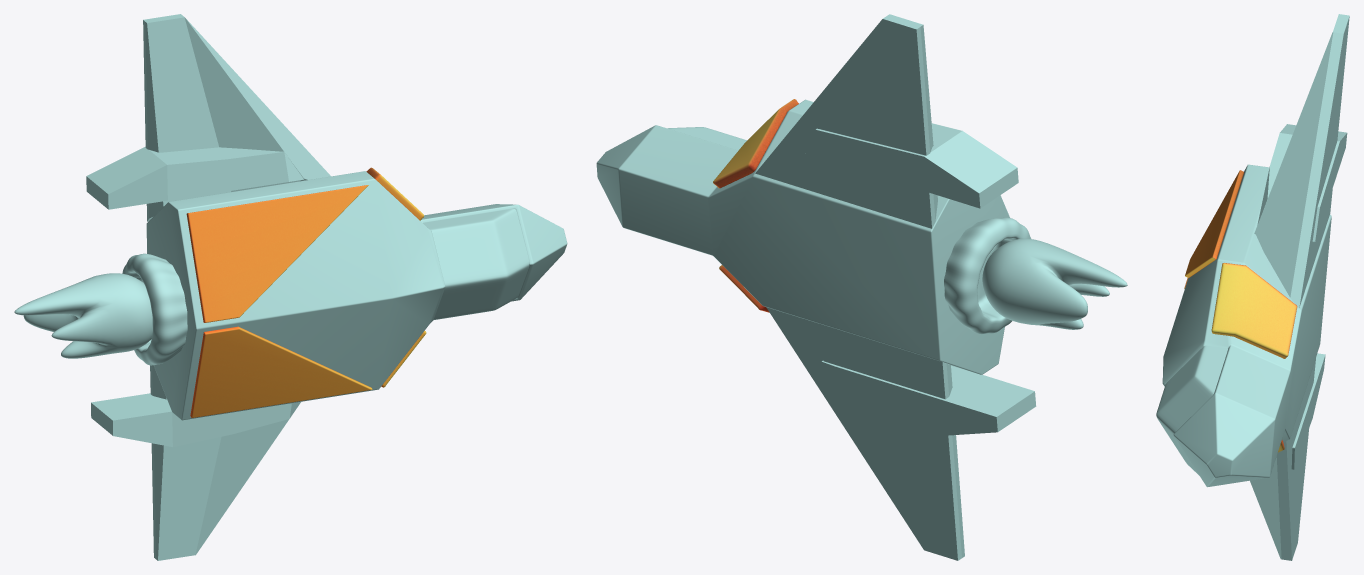
Rendered from animation.fbx.
3 renders of one model, left to right at view 1: azimuth 30°, elevation 25°; view 2: azimuth 150°, elevation 25°; view 3: azimuth 270°, elevation 25°, orthographic. The views are drawn at different scales.
Visible parts, largest first — view 1: Cylinder.001; view 2: Cylinder.001; view 3: Cylinder.001.
Boxes of the visible parts, x1,y1,x2,y2 form: Cylinder.001: (14, 14, 567, 560); Cylinder.001: (596, 14, 1127, 560); Cylinder.001: (1156, 14, 1349, 560).
Size of the model in its own units: 49.12 by 46.52 by 15.22.
